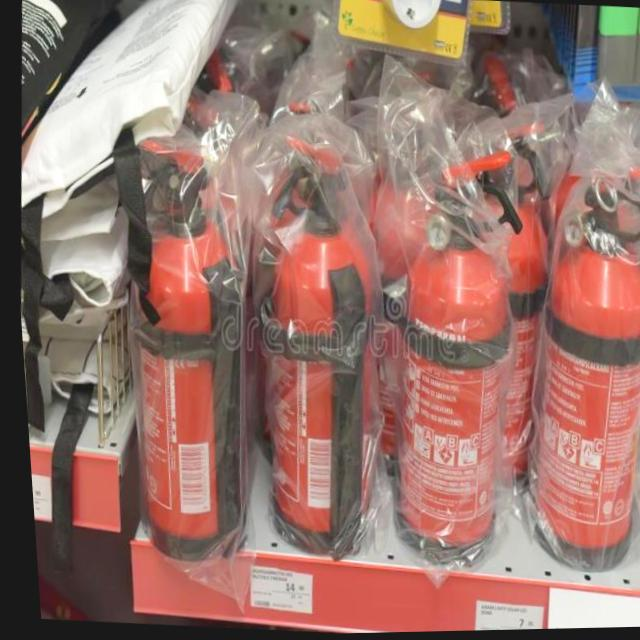FireExtinguisher: (360, 144, 543, 577), (95, 136, 261, 583), (421, 49, 577, 519), (228, 135, 396, 559), (322, 104, 486, 496), (492, 160, 640, 591)
